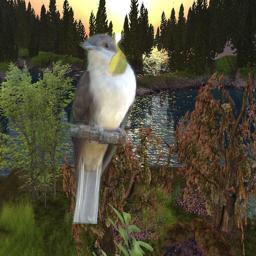Cuckoo: (67, 33, 137, 224)
